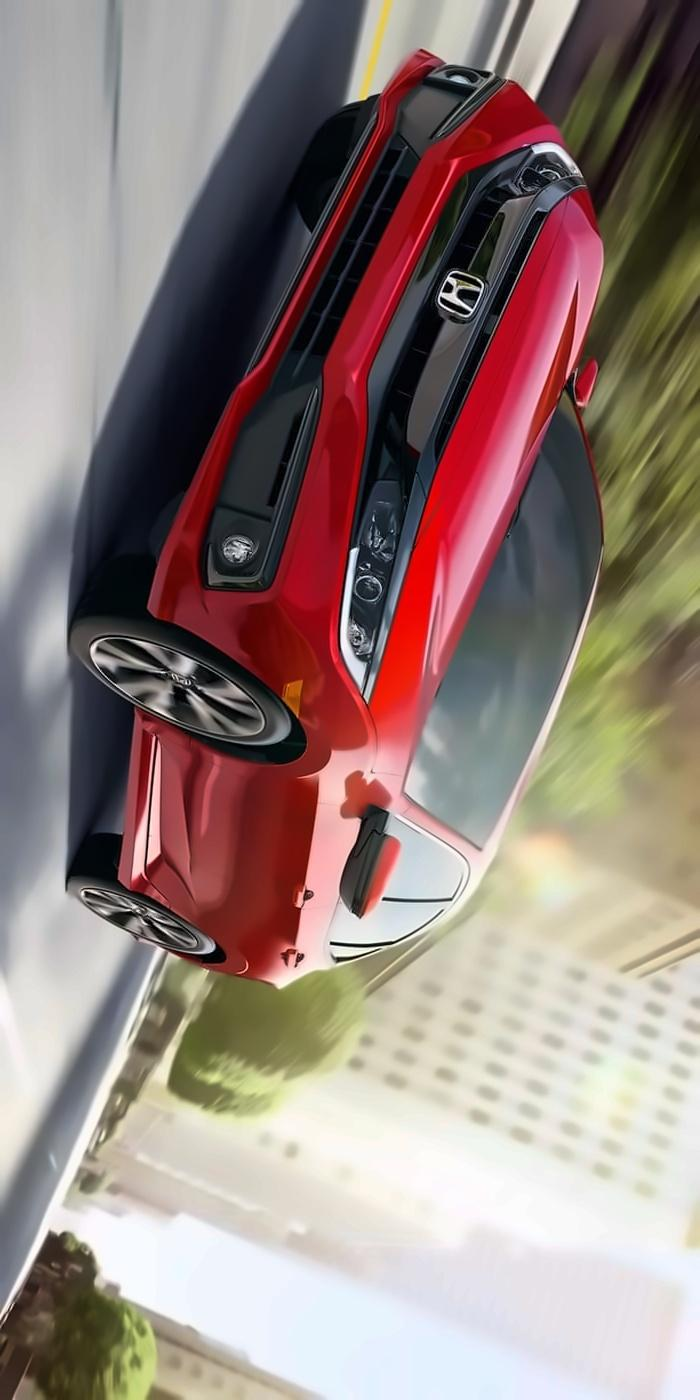Car hood: (370, 175, 618, 784)
Front bumper: (132, 28, 545, 722)
Headlight - -L-: (333, 510, 405, 704)
Headlight - -R-: (483, 135, 603, 219)
Passenger-s door - -F-L-: (118, 705, 481, 917)
Passenger-s door - -R-L-: (63, 835, 490, 981)
Side bumper - -L-: (94, 695, 200, 910)
Side mirror - -L-: (334, 803, 403, 930)
